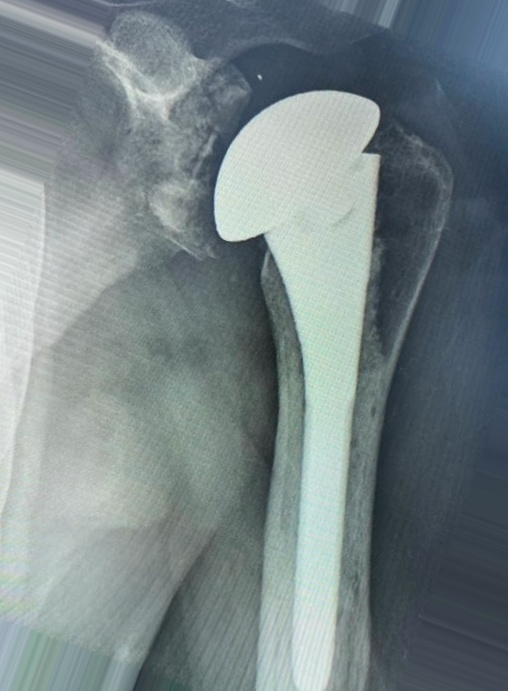Shoulder - Anotomical - Stryker: (211, 82, 388, 243)
